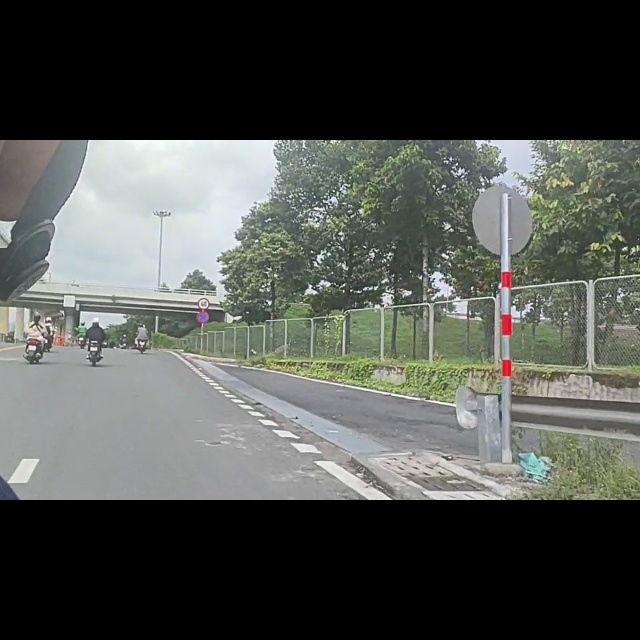bien_cam: (196, 303, 209, 327), (197, 280, 210, 301)
